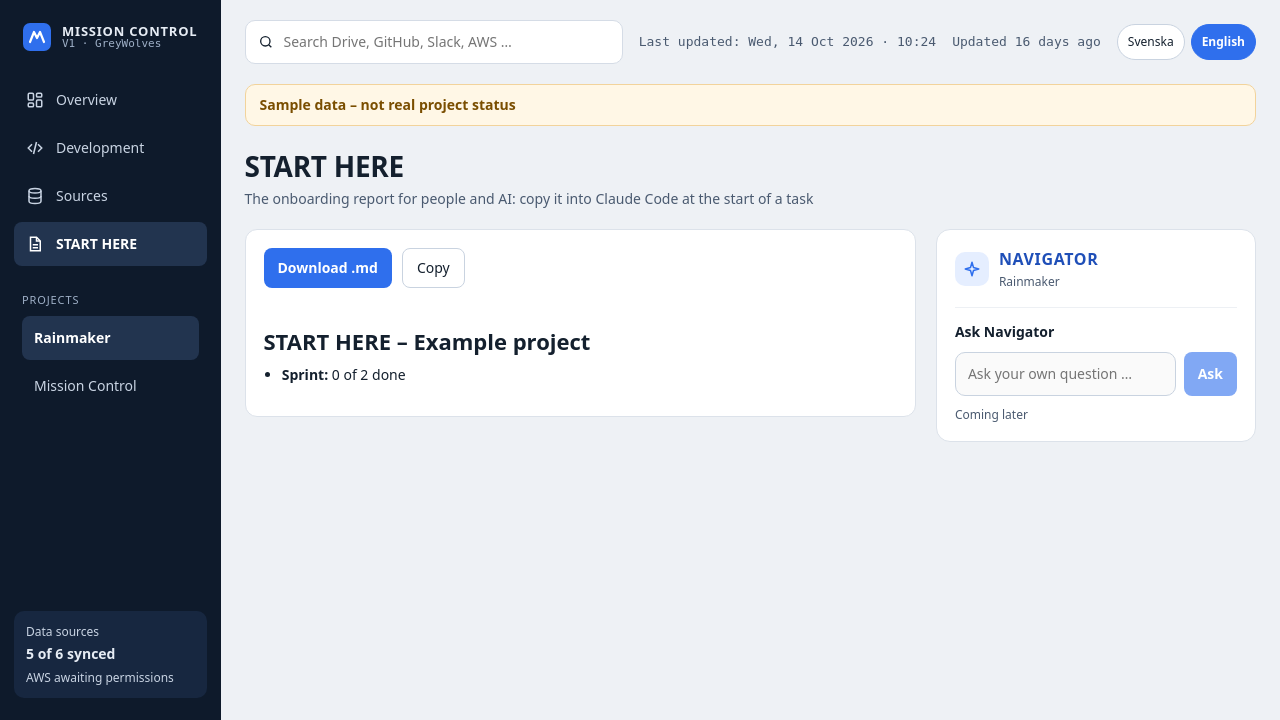
Test: START HERE page › says so when copying is blocked
The width and height of the screenshot is (1280, 720).
Click the button "Copy": (433, 268) top-left (402, 248), bottom-right (465, 288)
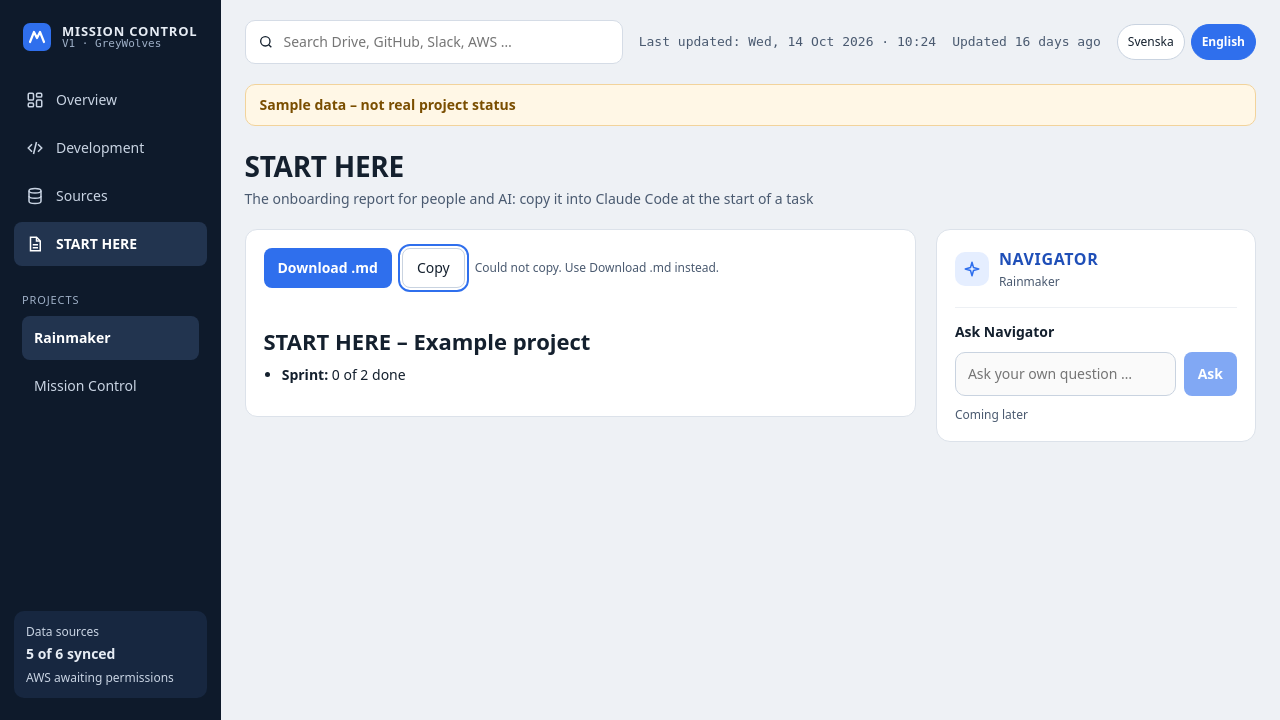
Now the message shows "Could not copy", box top-left (475, 260), bottom-right (719, 276)
